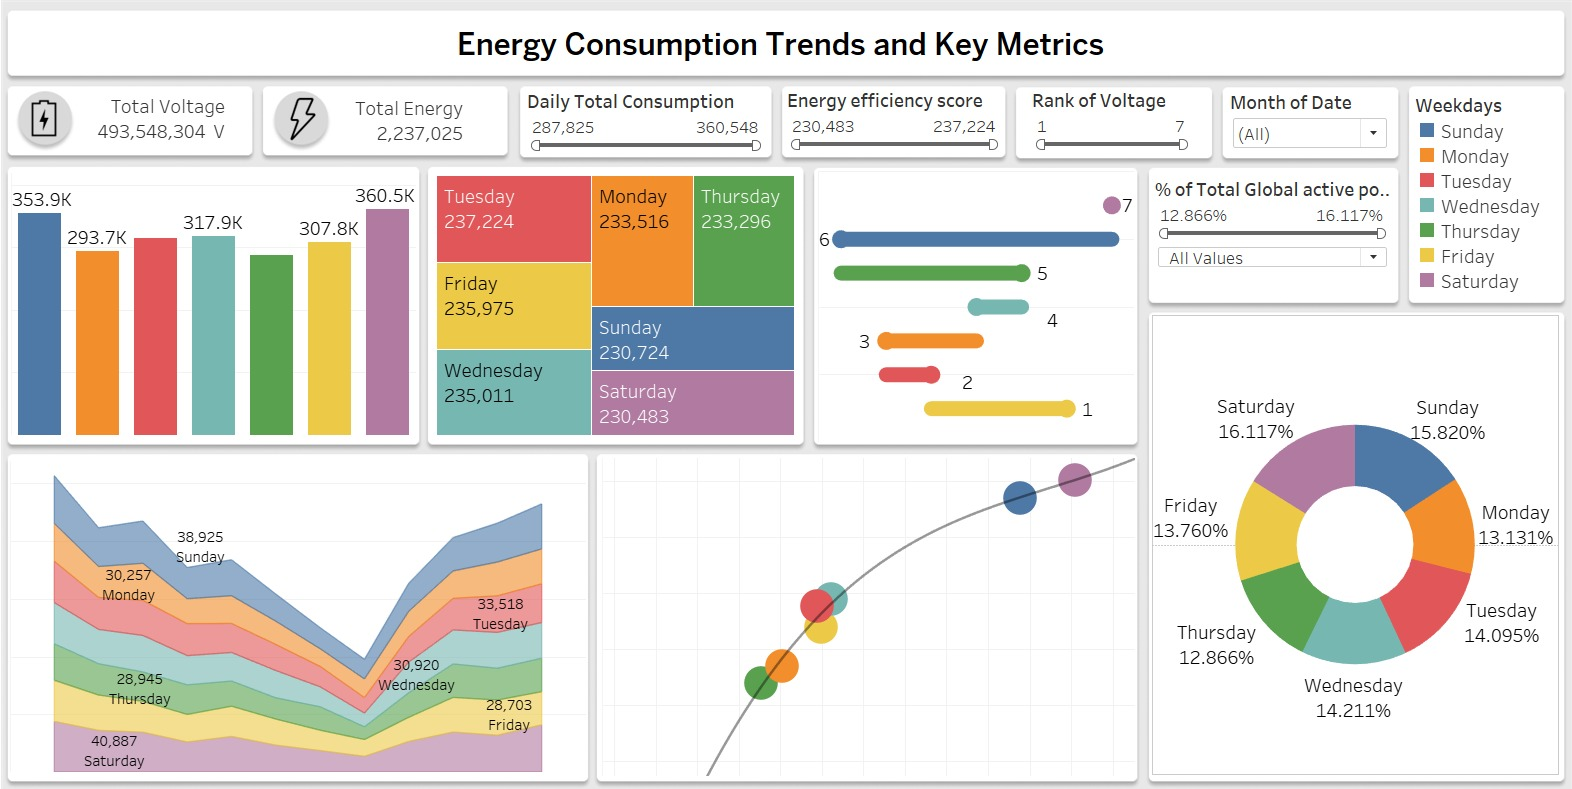

Layout of this report page (visuals, bound fields, positions):
{"tool":"tableau","page":{"name":"Dashboard 2","canvas":[1600,815],"ordinal":1},"visuals":[{"type":"image","param":"E:/Data Science/Data_Science_Project/Dashboard 2.png","box":[8,8,1584,799]},{"type":"worksheet","title":"T","mark":"Automatic","box":[466,35,665,49]},{"type":"filter","title":"P5","param":"[federated.1ibqc5r00kqat3101ubxd1pmlfgb].[sum:Energy_efficiency_score:qk]","box":[800,99,215,67]},{"type":"filter","title":"P6","param":"[federated.1ibqc5r00kqat3101ubxd1pmlfgb].[usr:Calculation_529172968457187331:qk]","box":[1045,99,160,67]},{"type":"filter","title":"P1","param":"[federated.1ibqc5r00kqat3101ubxd1pmlfgb].[sum:Calculation_529172968461074438:qk]","box":[540,100,238,64]},{"type":"filter","title":"P1","param":"[federated.1ibqc5r00kqat3101ubxd1pmlfgb].[mn:Date:ok]","box":[1243,101,160,65]},{"type":"legend","title":"P1","param":"[federated.1ibqc5r00kqat3101ubxd1pmlfgb].[none:Calculation_529172968456826881:nk","box":[1428,104,145,208]},{"type":"worksheet","title":"KPI 2","mark":"Automatic","box":[102,105,159,60]},{"type":"worksheet","title":"KPI 3","mark":"Automatic","box":[360,107,132,55]},{"type":"image","param":"E:/Data Science/Data_Science_Project/Icons/icons8-electricity-50.png","box":[292,108,46,46]},{"type":"image","param":"E:/Data Science/Data_Science_Project/Icons/icons8-battery-50-2.png","box":[36,110,41,42]},{"type":"worksheet","title":"P5","mark":"Automatic","box":[445,183,366,268]},{"type":"worksheet","title":"P6","mark":"Line","rows":["Calculation_529172968457187331"],"cols":["Calculation_529172968456826881"],"box":[831,183,316,271]},{"type":"worksheet","title":"P1","mark":"Automatic","rows":["Calculation_529172968461074438"],"cols":["Calculation_529172968456826881"],"box":[24,185,405,262]},{"type":"filter","title":"P3","param":"[federated.1ibqc5r00kqat3101ubxd1pmlfgb].[pcto:sum:Global_active_power:qk]","box":[1168,188,235,118]},{"type":"worksheet","title":"P3","mark":"Pie","rows":["Calculation_529172968506413070","Calculation_529172968506413070"],"box":[1165,327,407,460]},{"type":"worksheet","title":"P2","mark":"Automatic","rows":["Global_active_power"],"cols":["Global_reactive_power"],"box":[615,470,533,318]},{"type":"worksheet","title":"P4","mark":"Area","rows":["Calculation_529172968461074438"],"cols":["Date"],"box":[23,473,576,311]}]}

Visuals, with their boxes in screenshot pixels (x1, y1, x2, y2), scaled from the page's 1600x815 canvas onto the 1572x789 screenshot:
image: [8,8,1564,781]
"T" worksheet: [458,34,1111,81]
"P5" filter: [786,96,997,161]
"P6" filter: [1027,96,1184,161]
"P1" filter: [531,97,764,159]
"P1" filter: [1221,98,1378,161]
"P1" legend: [1403,101,1545,302]
"KPI 2" worksheet: [100,102,256,160]
"KPI 3" worksheet: [354,104,483,157]
image: [287,105,332,149]
image: [35,106,76,147]
"P5" worksheet: [437,177,797,437]
"P6" worksheet (Line marks): [816,177,1127,440]
"P1" worksheet: [24,179,421,433]
"P3" filter: [1148,182,1378,296]
"P3" worksheet (Pie marks): [1145,317,1544,762]
"P2" worksheet: [604,455,1128,763]
"P4" worksheet (Area marks): [23,458,589,759]
